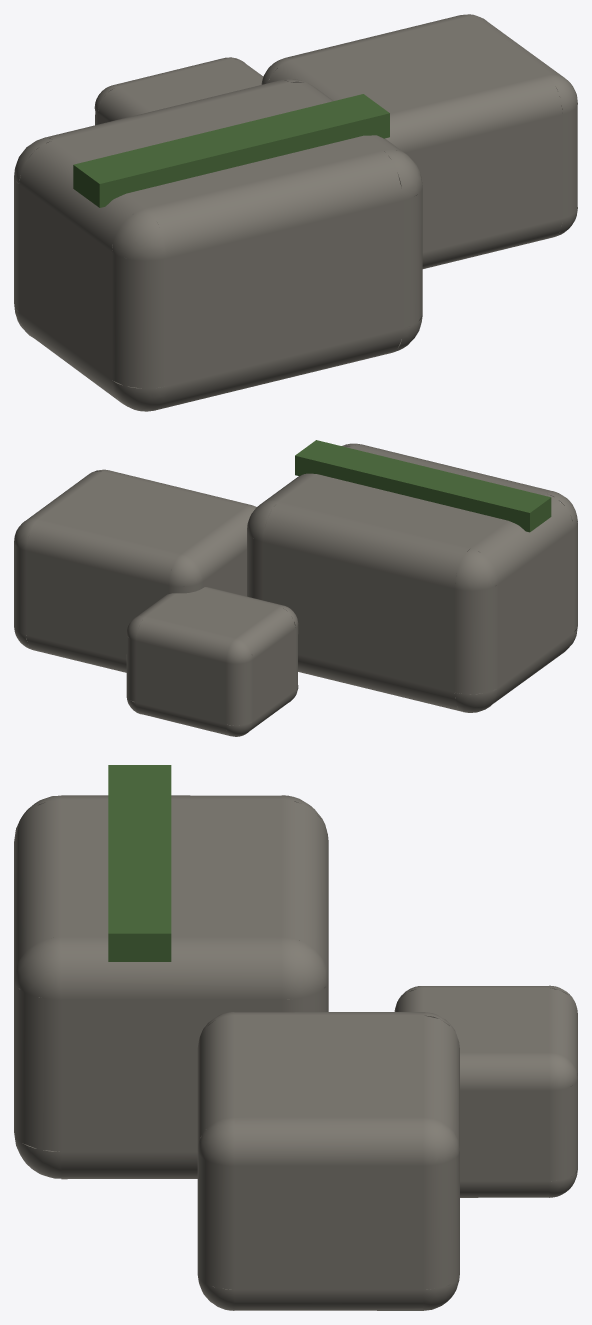
The model's file is f21-boulder-cluster.lod1.glb.
3 views of the same model, one above another, from view 1: azimuth 30°, elevation 25°; view 2: azimuth 150°, elevation 25°; view 3: azimuth 270°, elevation 25° (orthographic). The views are drawn at different scales.
Parts seen in each view (by area): view 1: part0, part1; view 2: part0, part1; view 3: part0, part1.
Part boxes in pixels (x1,y1,x2,y2): part0: [14, 14, 577, 411]; part1: [73, 94, 389, 207]; part0: [14, 443, 577, 736]; part1: [295, 440, 551, 532]; part0: [14, 795, 577, 1310]; part1: [108, 765, 171, 961].
Size of the model in its own units: 1400 by 540 by 1075.
